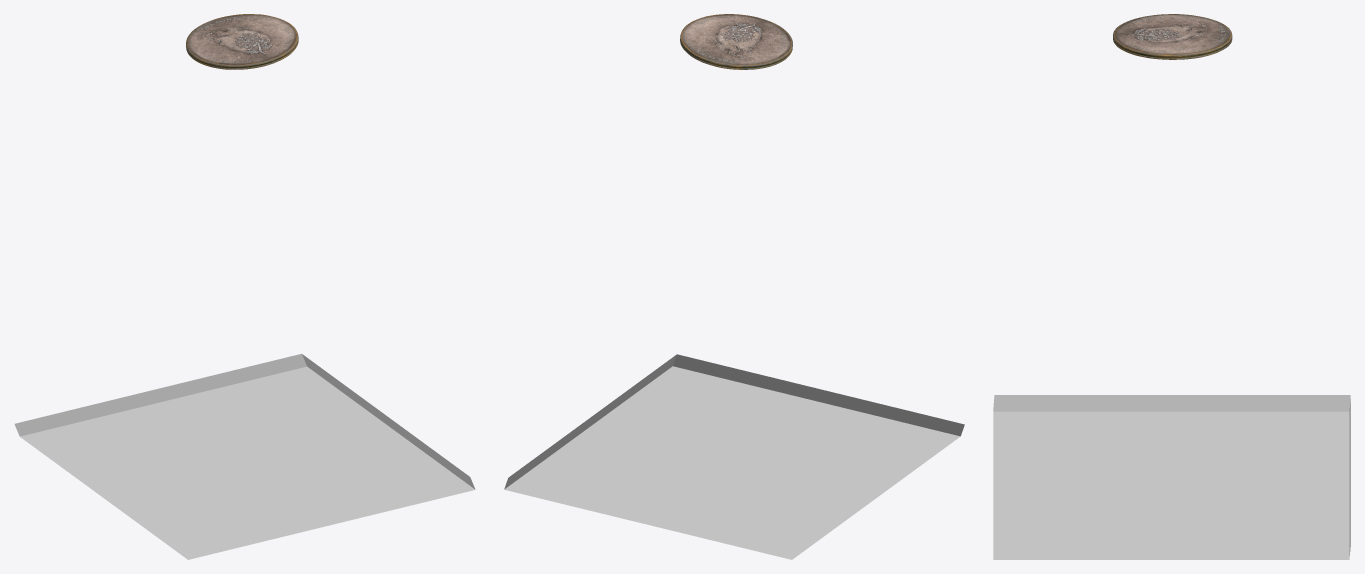
File: TossHead.gltf
3 views of the same model, side by side, from view 1: azimuth 30°, elevation 25°; view 2: azimuth 150°, elevation 25°; view 3: azimuth 270°, elevation 25° (orthographic). The views are drawn at different scales.
Parts seen in each view (by area): view 1: Plane, Coin; view 2: Plane, Coin; view 3: Plane, Coin.
Part boxes in pixels (box(x1,y1,x2,y2)): Plane: box(14, 353, 475, 559); Coin: box(186, 14, 298, 69); Plane: box(504, 354, 964, 559); Coin: box(680, 14, 792, 69); Plane: box(993, 395, 1350, 559); Coin: box(1113, 14, 1232, 59).
Bounding box in the file's own units: 5.99 × 8.39 × 6.
2 materials, 1 textured.
